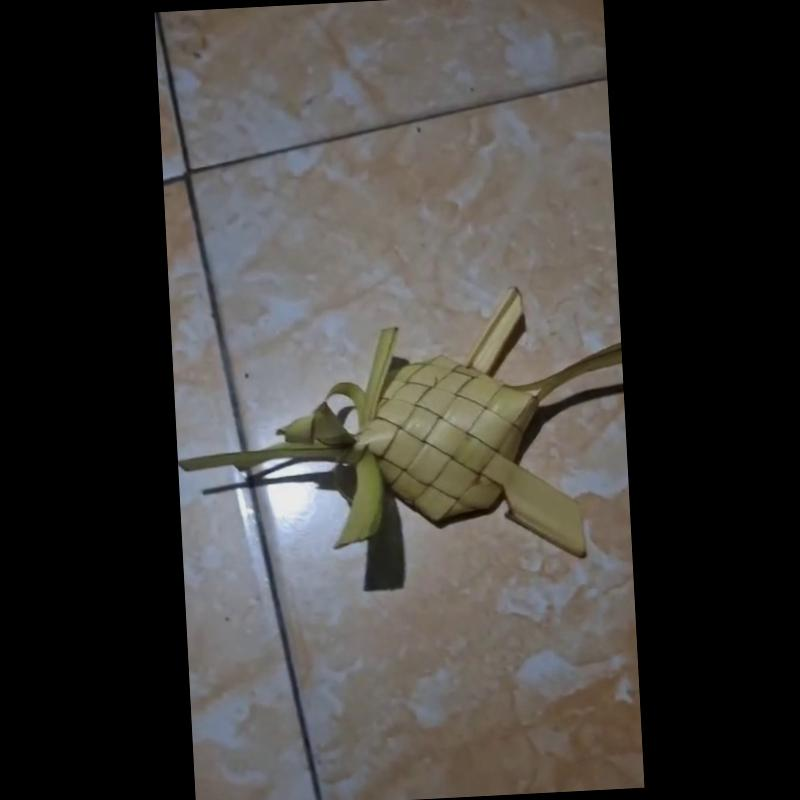Tipat Dampulan: (178, 288, 623, 573)
